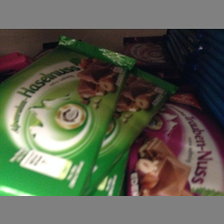chocolate: (2, 45, 119, 196), (128, 93, 224, 197)
